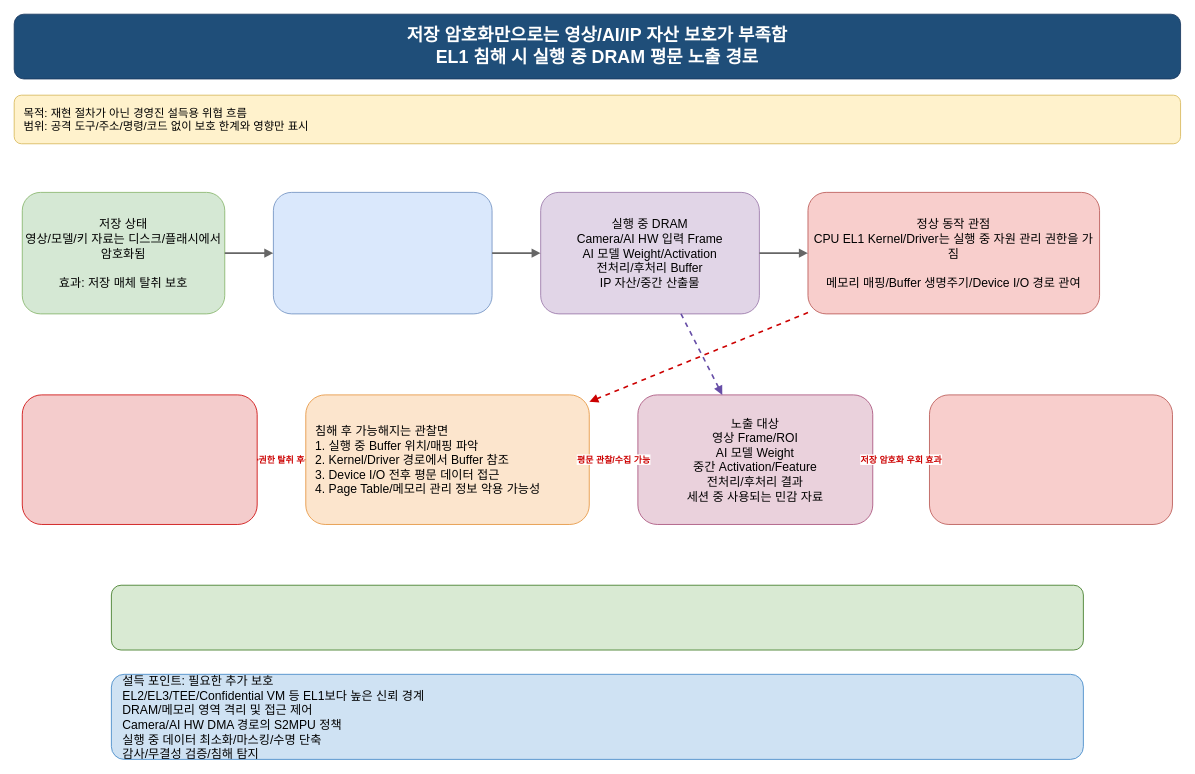
This 1195x774 diagram has some shape labels left out. The centre of each missing label's shape, as x and y in pixels:
"사업 영향 저장 암호화 우회: 저장 매체가 아니라 실행 순간을 노림 영상/AI/IP 자산 유출 모델 복제/역공학 고객 신뢰/규제/계약 리스크" belongs at point 1050,459.
"실행 준비 TEE/OS/Driver/App이 데이터를 사용하려면 복호화 필요 결과: DRAM 내 작업 버퍼는 평문 상태" belongs at point 382,253.
"전제: EL1 침해 Kernel/Driver 수준 권한 탈취 예: 취약 Driver, 공급망 변조, 권한 상승 등 (구체 절차/도구 제외)" belongs at point 139,459.
"핵심 메시지 EL1은 실행 중 평문을 관리하는 위치에 있으므로, EL1 보호만으로는 EL1 침해 이후의 DRAM 평문 노출을 막기 어렵다." belongs at point 597,617.
